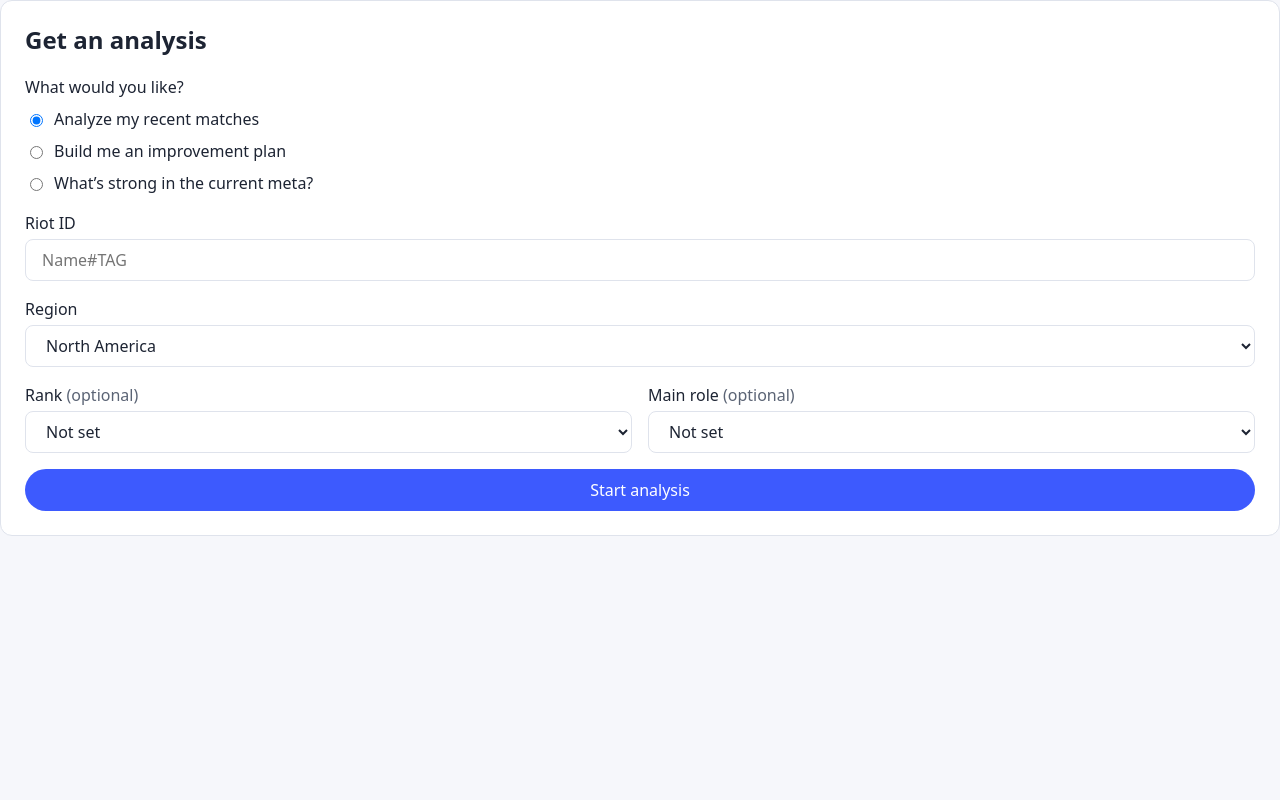
Scenario: Analysis › does not offer an override for the free daily limit
The image size is (1280, 800).
Type "Faker#KR1" into the field labelled "Riot ID".
click(640, 260); type("Faker#KR1")  # box [25,239,1255,281]
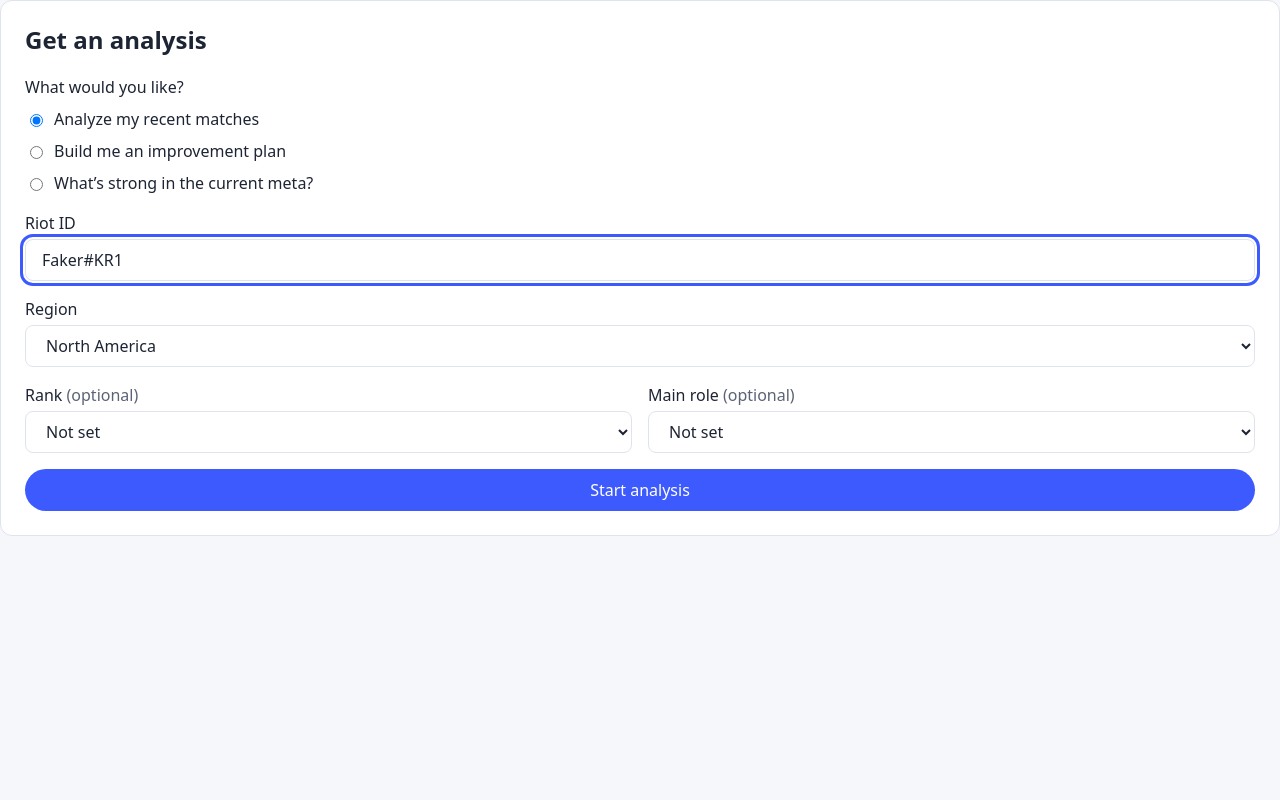
Click the button "Start analysis".
click(640, 490)  # box [25,469,1255,511]
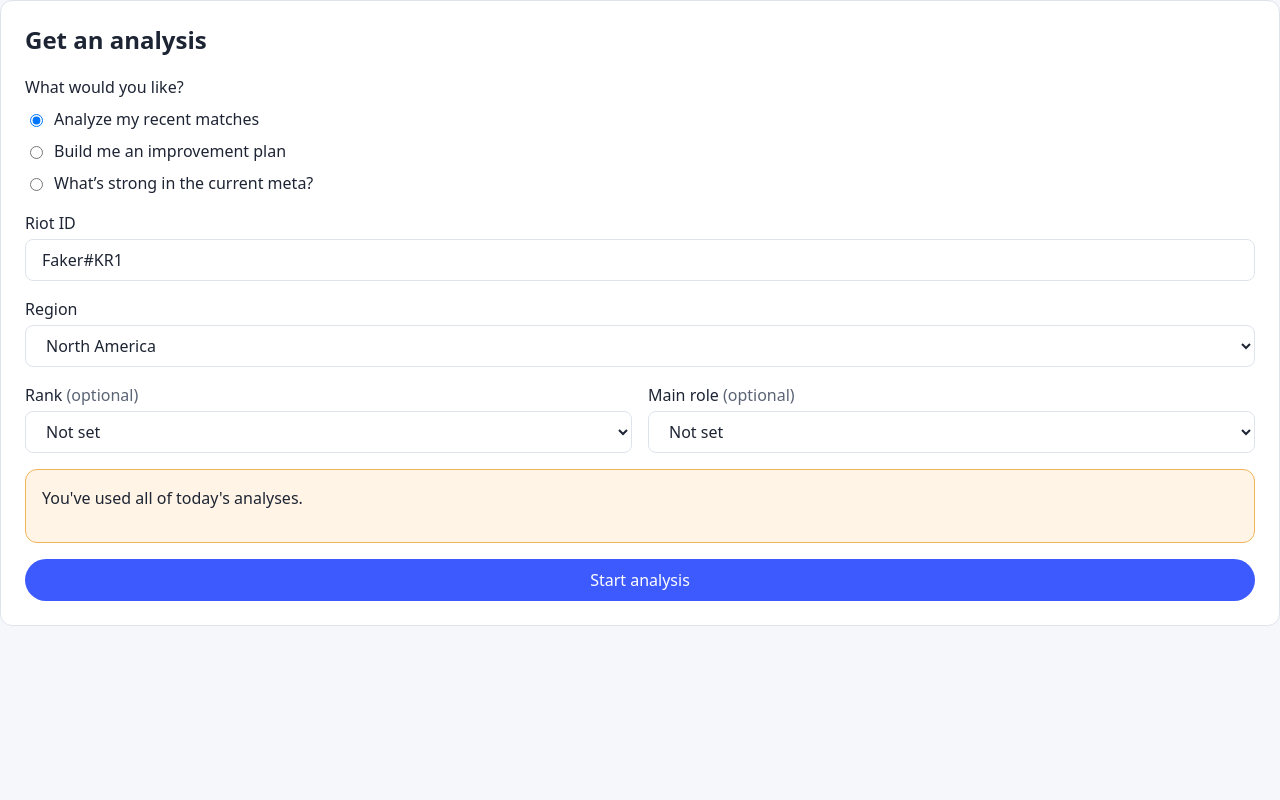
Check: the message shows "today's analyses", box [42,487,303,509]
